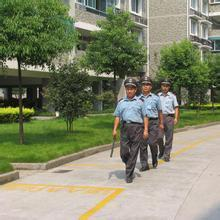up: (105, 78, 139, 185), (157, 76, 180, 163), (139, 77, 158, 168)
